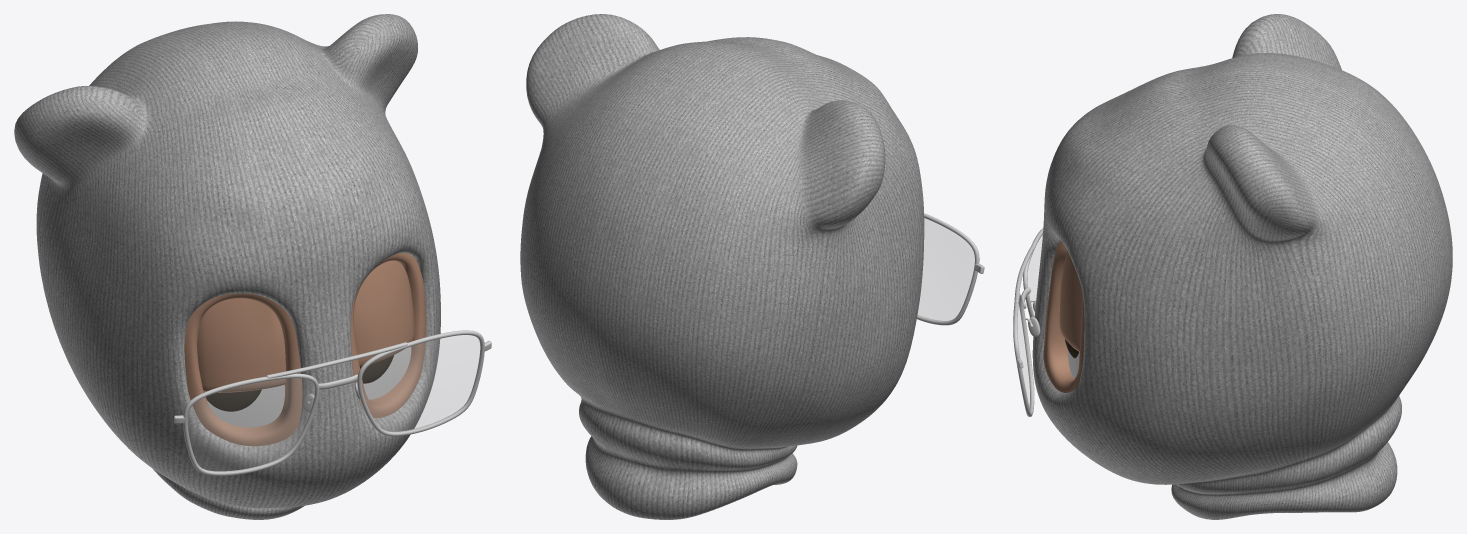
3 views of the same model, side by side, from view 1: azimuth 30°, elevation 25°; view 2: azimuth 150°, elevation 25°; view 3: azimuth 270°, elevation 25° (orthographic). The views are drawn at different scales.
Visible parts, largest first — view 1: Balaclava_Base0917.013, lenses_2, Face.007, Eyelid_right.007, Eyelid_left.007, Rims, Sclera.009, Pupil_right.001, top_bar; view 2: Balaclava_Base0917.013, lenses_2, Rims; view 3: Balaclava_Base0917.013, Face.007, Eyelid_left.007, Rims, lenses_2.
Part boxes in pixels (x1=…): Balaclava_Base0917.013: x1=14, y1=14, x2=440, y2=519; lenses_2: x1=188, y1=335, x2=480, y2=471; Face.007: x1=184, y1=253, x2=426, y2=446; Eyelid_right.007: x1=197, y1=298, x2=285, y2=392; Eyelid_left.007: x1=353, y1=260, x2=414, y2=366; Rims: x1=183, y1=330, x2=484, y2=475; Sclera.009: x1=207, y1=347, x2=411, y2=427; Pupil_right.001: x1=204, y1=389, x2=261, y2=411; top_bar: x1=266, y1=342, x2=407, y2=378; Balaclava_Base0917.013: x1=520, y1=14, x2=924, y2=519; lenses_2: x1=918, y1=218, x2=974, y2=320; Rims: x1=917, y1=213, x2=979, y2=325; Balaclava_Base0917.013: x1=1032, y1=14, x2=1452, y2=519; Face.007: x1=1043, y1=240, x2=1084, y2=392; Eyelid_left.007: x1=1059, y1=251, x2=1082, y2=351; Rims: x1=1013, y1=228, x2=1043, y2=416; lenses_2: x1=1018, y1=235, x2=1042, y2=409.
Bounding box in the file's own units: 0.8557 × 0.9973 × 0.9128.
Materials: 6 (1 with a texture image).
